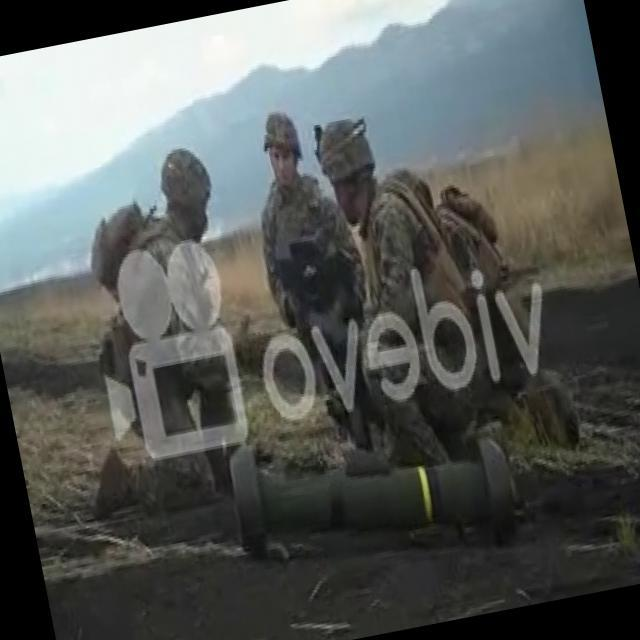rocket: (213, 390, 522, 584)
